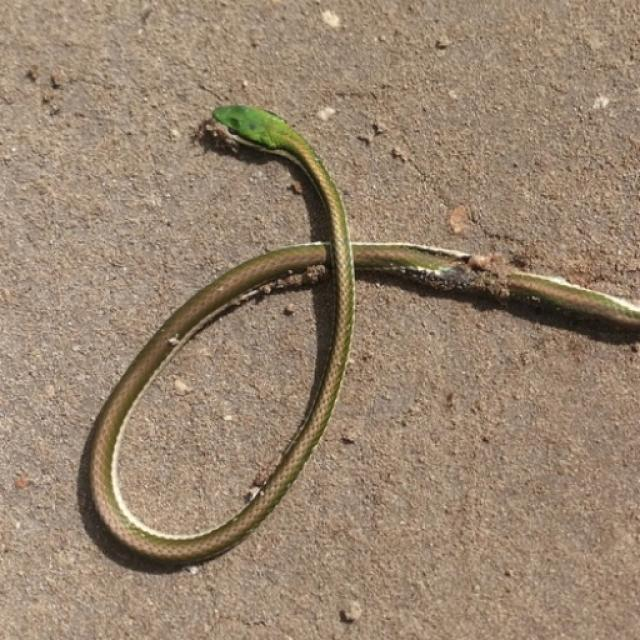snake: (72, 89, 640, 571)
